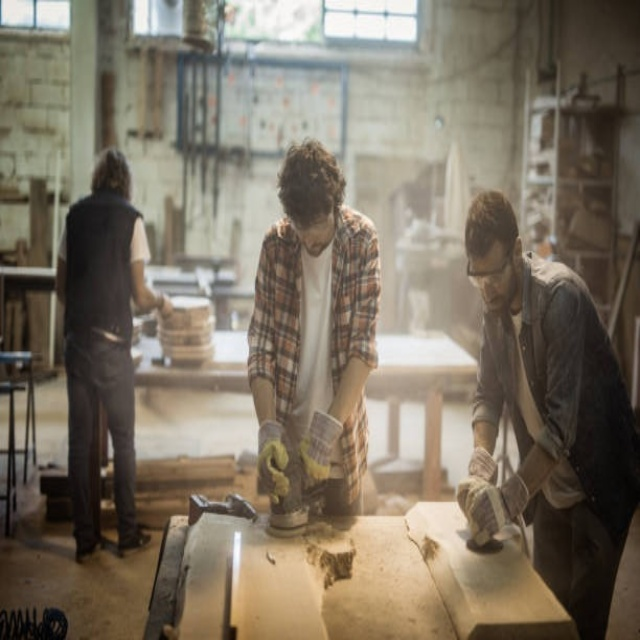Gafas: (292, 211, 335, 251), (468, 248, 512, 282)
Guantes: (461, 466, 531, 552), (252, 414, 291, 507), (301, 411, 343, 485), (459, 447, 501, 521)
